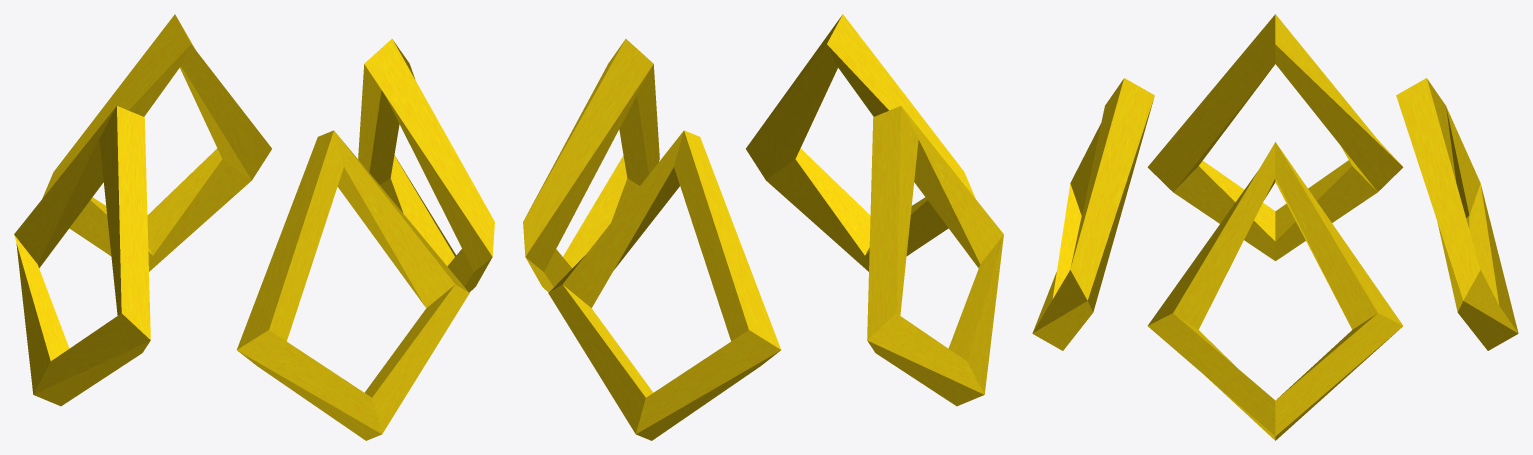
The model's file is clearing_ritual_main_block_petals.obj.
3 views of the same model, side by side, from view 1: azimuth 30°, elevation 25°; view 2: azimuth 150°, elevation 25°; view 3: azimuth 270°, elevation 25° (orthographic). The views are drawn at different scales.
Parts seen in each view (by area): view 1: Torus.001, Torus.002, Torus, Torus.003; view 2: Torus, Torus.002, Torus.001, Torus.003; view 3: Torus.003, Torus.002, Torus, Torus.001.
Part boxes in pixels (x1,y1,x2,y2): Torus.001: (237, 130, 469, 440); Torus.002: (14, 106, 150, 406); Torus: (42, 14, 271, 271); Torus.003: (358, 39, 494, 292); Torus: (548, 130, 780, 440); Torus.002: (867, 106, 1003, 406); Torus.001: (746, 14, 975, 271); Torus.003: (523, 39, 659, 292); Torus.003: (1148, 142, 1402, 440); Torus.002: (1147, 14, 1403, 260); Torus: (1396, 78, 1518, 350); Torus.001: (1032, 78, 1154, 350).
Size of the model in its own units: 4.75 by 2.94 by 4.75.
